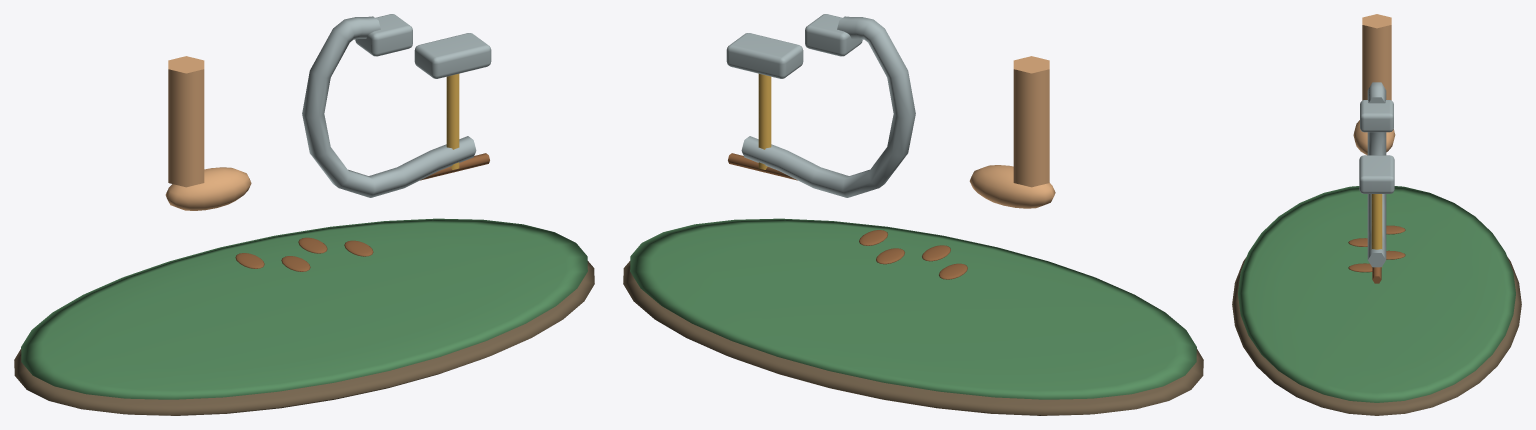
File: complete-first-follow-clamped-steps.glb
The picture shows the model from 3 angles, left to right: view 1: azimuth 30°, elevation 25°; view 2: azimuth 150°, elevation 25°; view 3: azimuth 270°, elevation 25°; orthographic projection. The views are drawn at different scales.
Parts seen in each view (by area): view 1: complete-first-follow-clamped-steps_surface_01, complete-first-follow-clamped-steps_surface_03, complete-first-follow-clamped-steps_surface_00, complete-first-follow-clamped-steps_surface_02, complete-first-follow-clamped-steps_surface_05, complete-first-follow-clamped-steps_surface_04; view 2: complete-first-follow-clamped-steps_surface_01, complete-first-follow-clamped-steps_surface_03, complete-first-follow-clamped-steps_surface_00, complete-first-follow-clamped-steps_surface_02, complete-first-follow-clamped-steps_surface_05, complete-first-follow-clamped-steps_surface_04; view 3: complete-first-follow-clamped-steps_surface_01, complete-first-follow-clamped-steps_surface_00, complete-first-follow-clamped-steps_surface_03, complete-first-follow-clamped-steps_surface_02, complete-first-follow-clamped-steps_surface_05, complete-first-follow-clamped-steps_surface_04.
Boxes of the visible parts, x1,y1,x2,y2 form: complete-first-follow-clamped-steps_surface_01: [21, 218, 587, 399]; complete-first-follow-clamped-steps_surface_03: [302, 14, 491, 197]; complete-first-follow-clamped-steps_surface_00: [14, 261, 594, 415]; complete-first-follow-clamped-steps_surface_02: [165, 56, 251, 210]; complete-first-follow-clamped-steps_surface_05: [235, 153, 489, 271]; complete-first-follow-clamped-steps_surface_04: [446, 74, 459, 169]; complete-first-follow-clamped-steps_surface_01: [630, 218, 1196, 399]; complete-first-follow-clamped-steps_surface_03: [726, 14, 915, 197]; complete-first-follow-clamped-steps_surface_00: [623, 261, 1203, 415]; complete-first-follow-clamped-steps_surface_02: [969, 56, 1055, 208]; complete-first-follow-clamped-steps_surface_05: [728, 153, 967, 279]; complete-first-follow-clamped-steps_surface_04: [758, 74, 771, 169]; complete-first-follow-clamped-steps_surface_01: [1238, 186, 1515, 402]; complete-first-follow-clamped-steps_surface_00: [1232, 257, 1521, 415]; complete-first-follow-clamped-steps_surface_03: [1359, 82, 1394, 267]; complete-first-follow-clamped-steps_surface_02: [1353, 14, 1395, 155]; complete-first-follow-clamped-steps_surface_05: [1348, 225, 1405, 283]; complete-first-follow-clamped-steps_surface_04: [1371, 194, 1382, 267].
Size of the model in its own units: 4.56 by 2.4 by 2.5.
